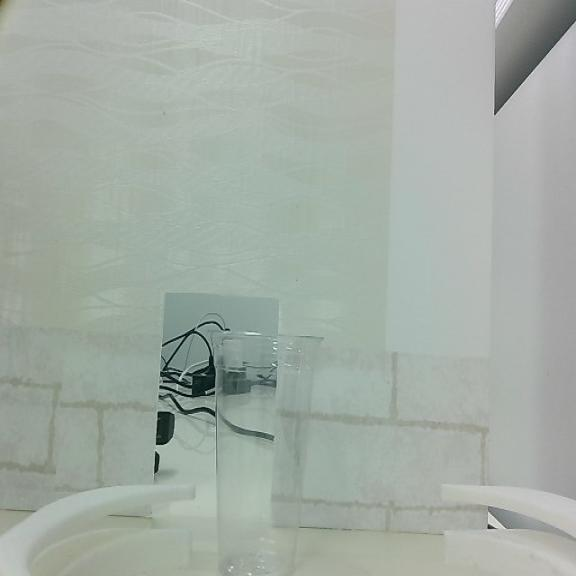Plastik: (213, 332, 321, 574)
